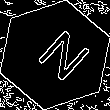N_SW: (22, 23, 88, 87)
